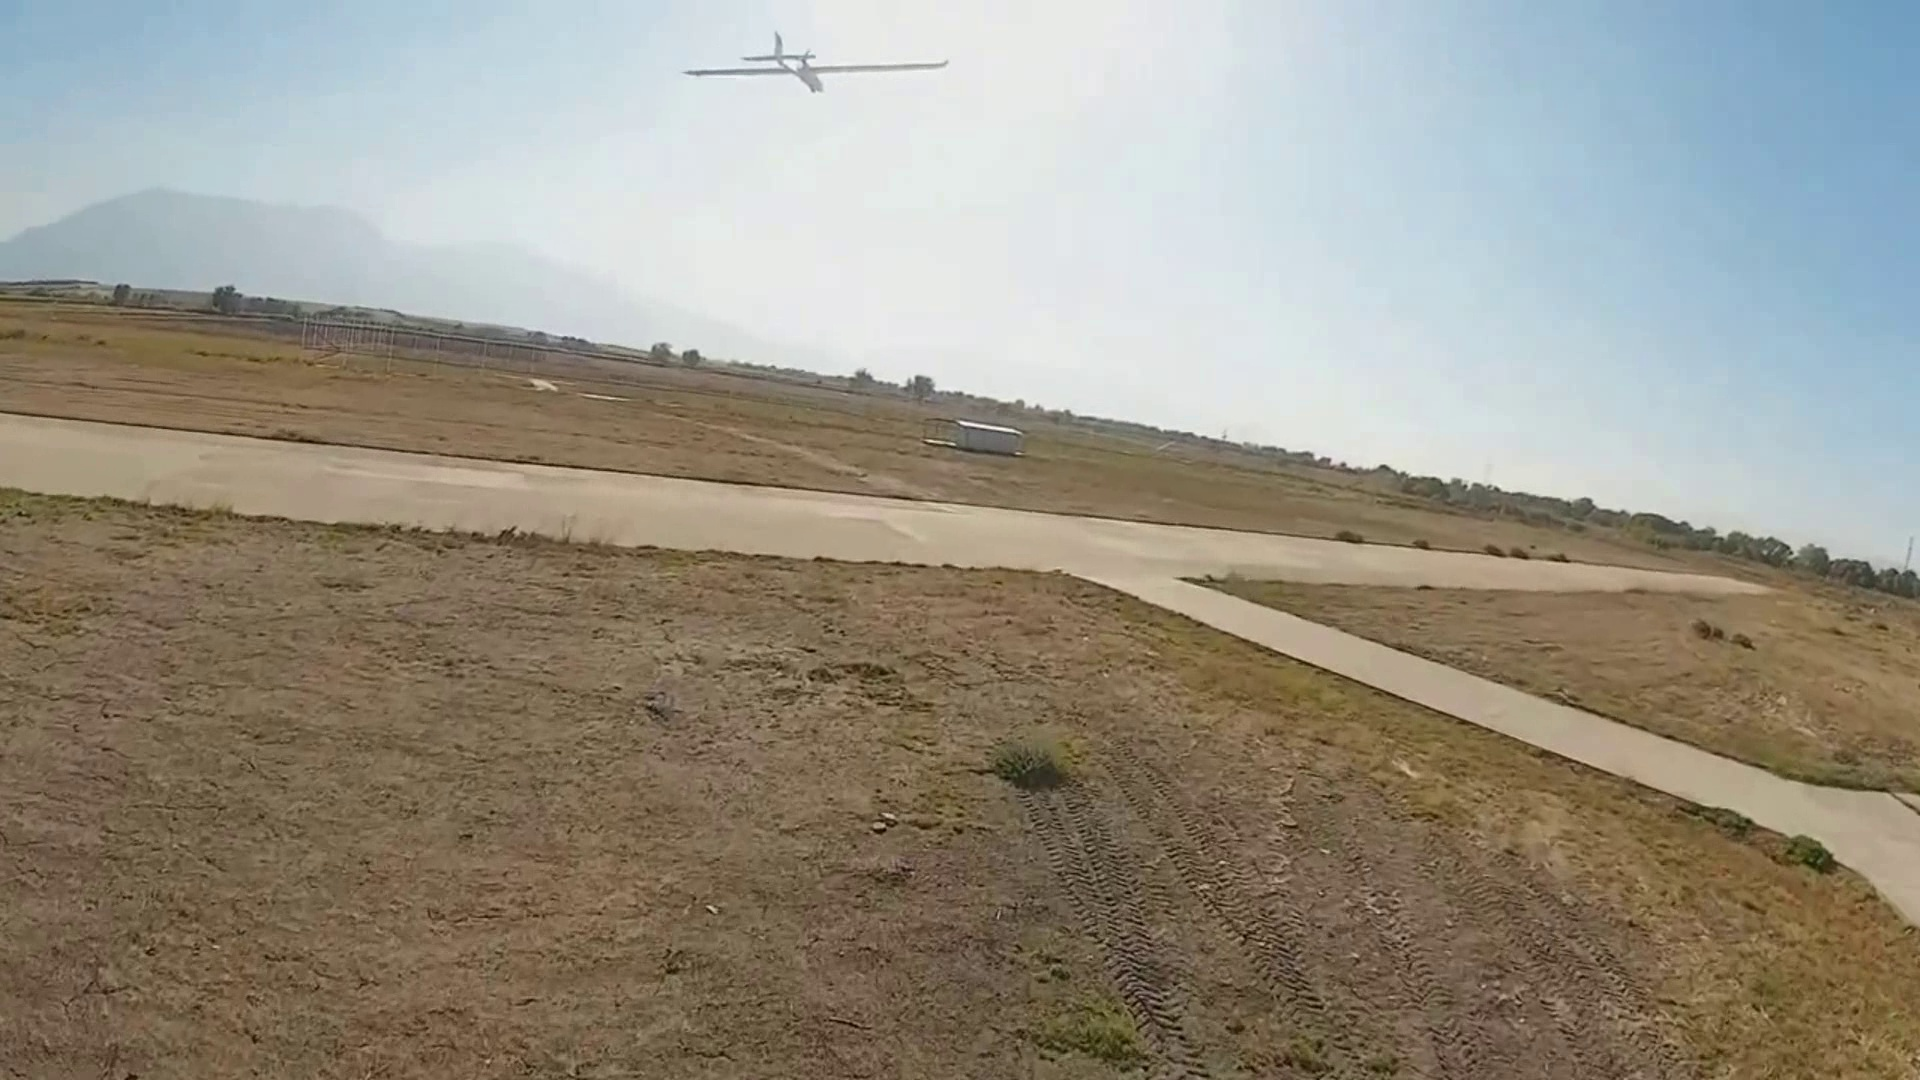airplane: (680, 22, 951, 92)
